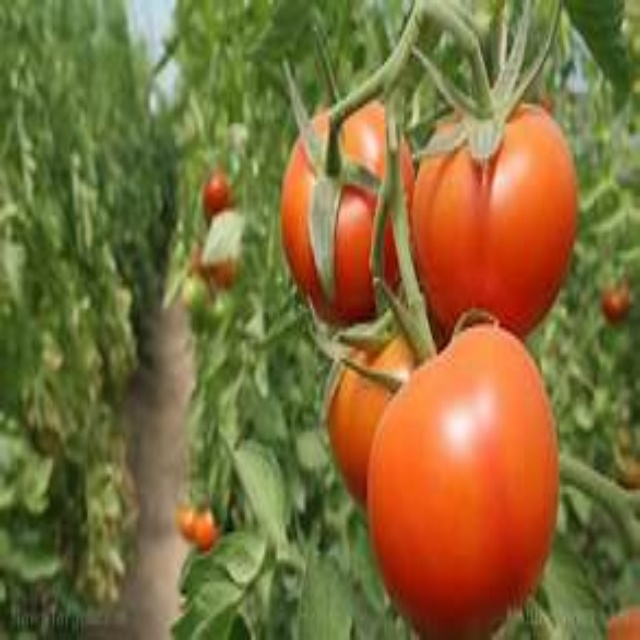tomato: (384, 336, 554, 635), (413, 109, 586, 345), (275, 103, 425, 329), (308, 311, 447, 507)
